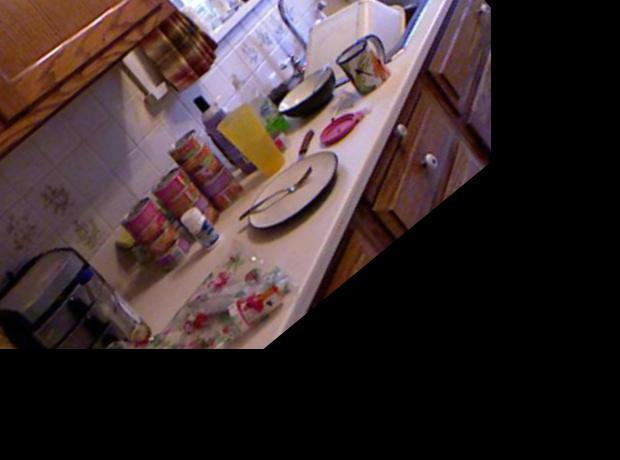Lavaplatos: (217, 0, 486, 139)
